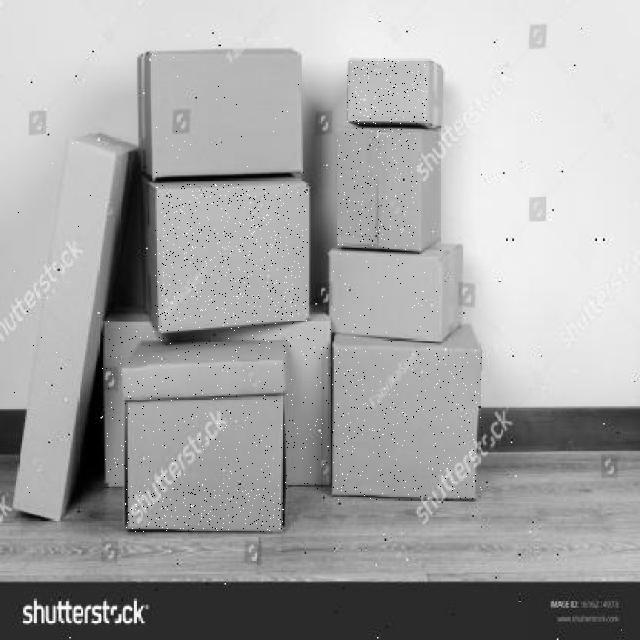BoxFace: (13, 136, 118, 522), (102, 322, 330, 489), (124, 360, 284, 532), (155, 184, 308, 334), (332, 348, 482, 500), (150, 54, 304, 178), (329, 250, 443, 344), (336, 128, 418, 252), (348, 58, 428, 124)
